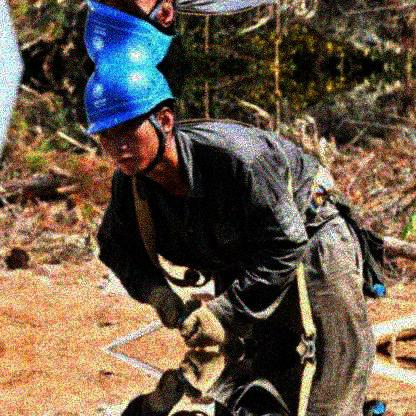helmet: (81, 68, 177, 177)
